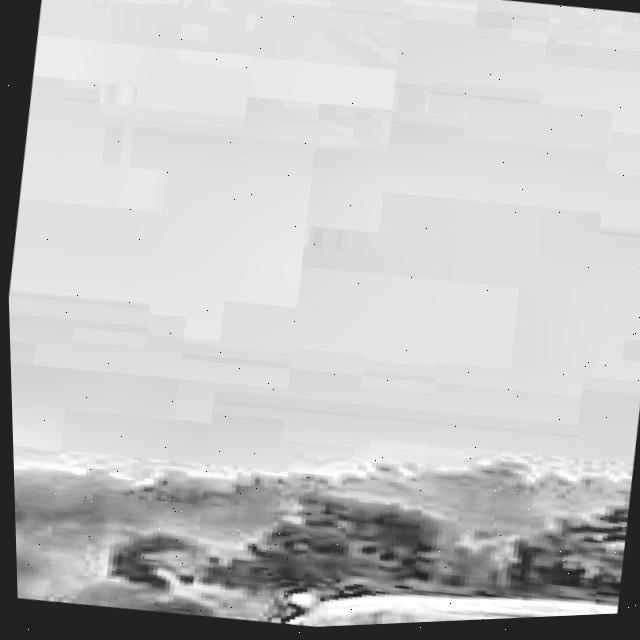Gerbong: (111, 529, 616, 637)
Lokomotif: (17, 591, 105, 611)
